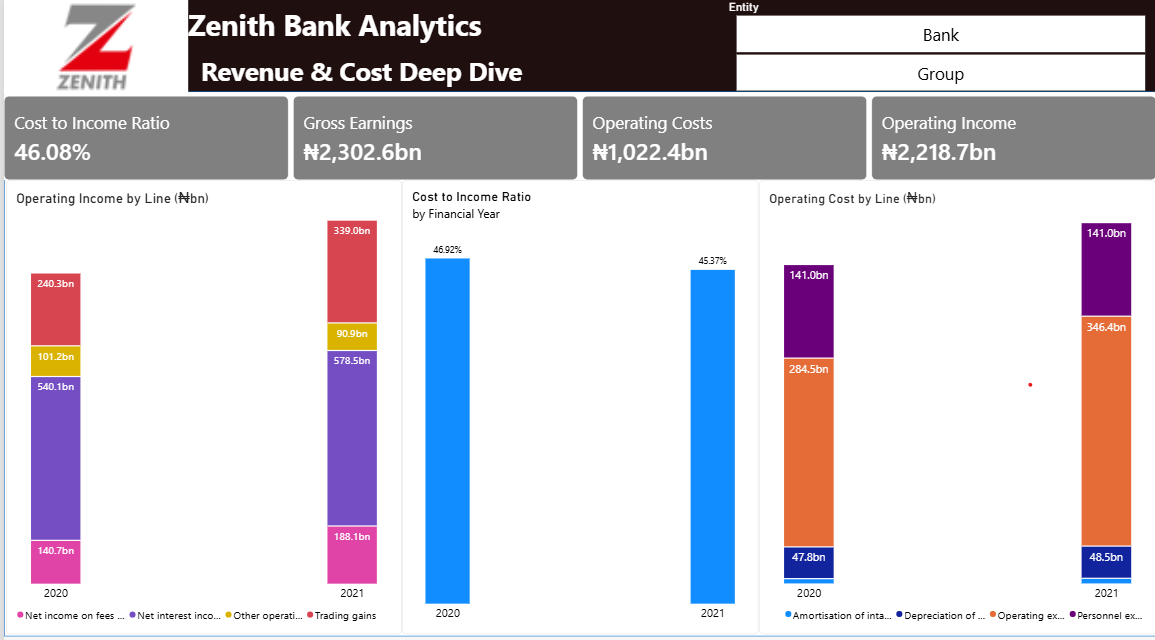

This screenshot's page, from the dashboard's own definition file:
{"tool":"powerbi","page":{"name":"Revenue & Cost Deep Dive ","canvas":[1920,1080],"ordinal":4},"visuals":[{"type":"shape","box":[0,3.3,1920,1060.6],"z":0},{"type":"cardVisual","fields":{"Data":["Fact_Financials.Cost to Income Ratio","Fact_Financials.Gross Earnings","Fact_Financials.Operating Costs","Fact_Financials.Operating Income"]},"box":[0,163.3,1920,140.2],"z":2000},{"type":"shape","box":[0,0,1920,156.7],"z":3000},{"type":"image","box":[0,0,306.8,163.3],"z":4000},{"type":"textbox","box":[306.8,0,735.7,82.5],"z":5000},{"type":"textbox","box":[315.1,82.5,574,74.2],"z":6000},{"type":"slicer","fields":{"Values":["Fact_Financials.Entity"]},"box":[1199.2,3.3,720.8,153.4],"z":8000},{"type":"columnChart","title":"Operating Cost by Line (₦bn)","fields":{"Category":["Fact_Financials.Financial Year"],"Series":["Dim_Line_Item.Line_Item"],"Y":["Fact_Financials.Operating Costs"]},"box":[1257.9,303.7,662.1,756.7],"z":9001},{"type":"columnChart","fields":{"Category":["Fact_Financials.Financial Year"],"Y":["Fact_Financials.Cost to Income Ratio"]},"box":[663.8,303.7,593.8,757.1],"z":9002},{"type":"columnChart","title":"Operating Income by Line (₦bn)","fields":{"Category":["Fact_Financials.Financial Year"],"Series":["Dim_Line_Item.Line_Item"],"Y":["Fact_Financials.Operating Income"]},"box":[3.3,303.5,659.8,757.1],"z":9003}]}

Visuals, with their boxes in screenshot pixels (x1, y1, x2, y2), scaled from the page's 1920x1080 canvas onto the 1155x640 screenshot:
shape: 0/2/1154/630
cardVisual - Fact_Financials.Cost to Income Ratio x Fact_Financials.Gross Earnings: 0/97/1154/180
shape: 0/0/1154/93
image: 0/0/185/97
textbox: 185/0/627/49
textbox: 190/49/535/93
slicer - Fact_Financials.Entity: 721/2/1154/93
"Operating Cost by Line (₦bn)" columnChart: 757/180/1154/628
columnChart - Fact_Financials.Financial Year x Fact_Financials.Cost to Income Ratio: 399/180/757/629
"Operating Income by Line (₦bn)" columnChart: 2/180/399/629
